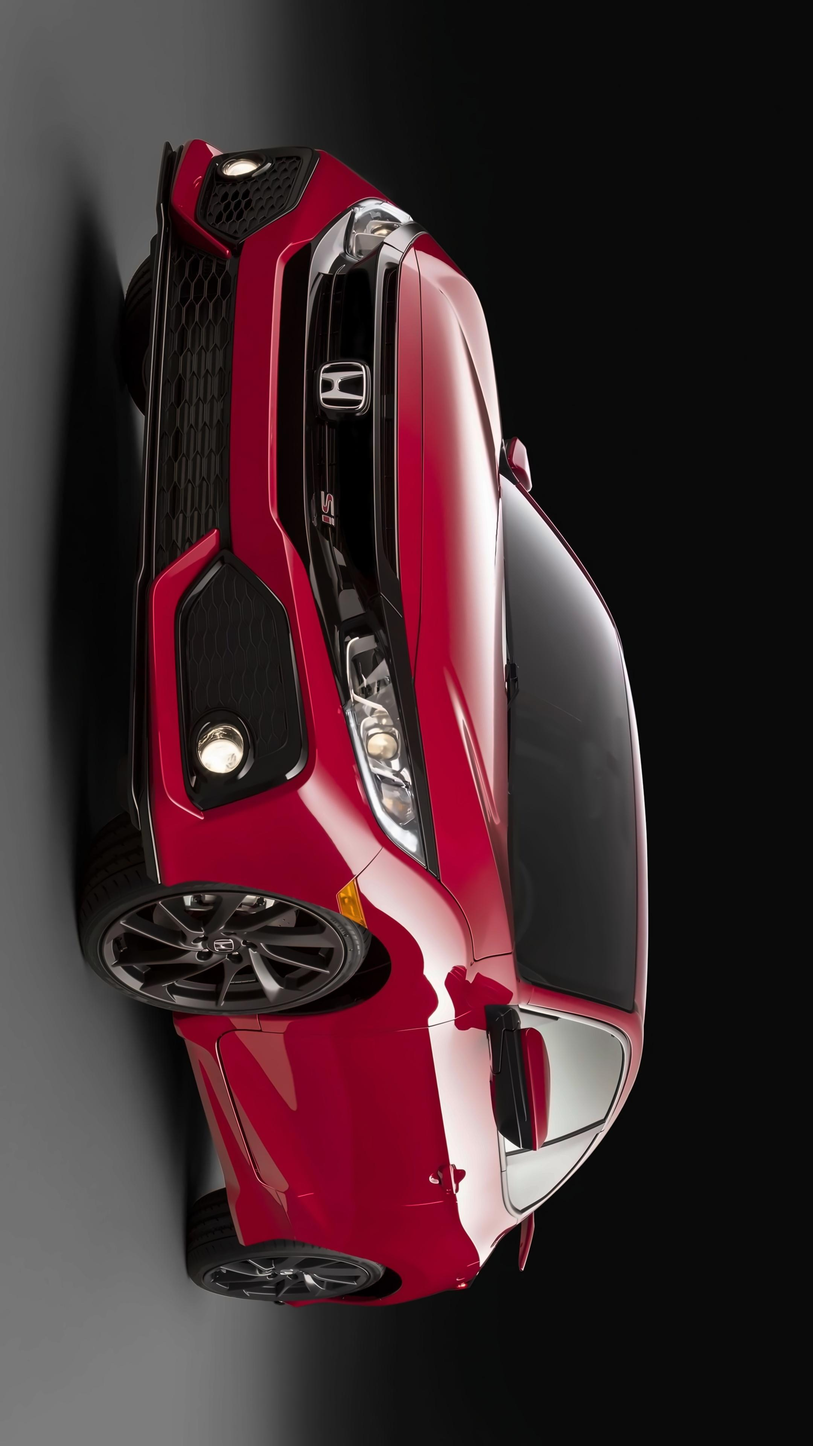Car hood: (394, 222, 513, 962)
Fender - -F-L-: (135, 844, 522, 1049)
Fender - -R-L-: (309, 1162, 522, 1337)
Front bumper: (109, 89, 383, 928)
Headlight - -L-: (341, 629, 441, 883)
Headlight - -R-: (307, 192, 423, 281)
Passenger-s door - -F-L-: (166, 1008, 652, 1214)
Side bumper - -L-: (138, 981, 298, 1291)
Side mirror - -L-: (474, 991, 555, 1156)
Side mirror - -R-: (493, 416, 540, 498)
